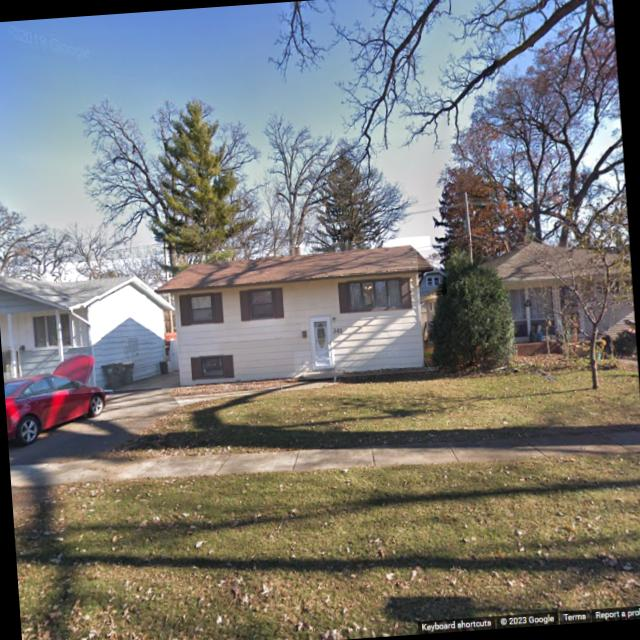House: (152, 235, 438, 389), (416, 235, 637, 367), (0, 255, 178, 398), (418, 269, 447, 296)
